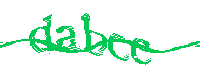a: (55, 25, 79, 54)
b: (81, 11, 109, 57)
c: (107, 32, 131, 63), (130, 37, 153, 66)
d: (29, 14, 53, 54)
